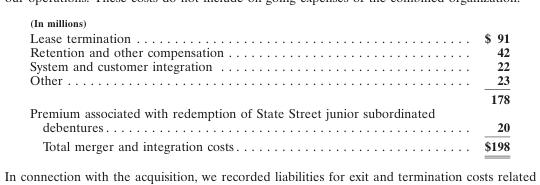table: (29, 29, 509, 153)
table column: (29, 29, 458, 153), (458, 29, 509, 153)
table row: (29, 105, 509, 136), (29, 88, 509, 105), (29, 136, 509, 153), (29, 72, 509, 88), (29, 29, 509, 44), (29, 44, 509, 58), (29, 58, 509, 72)
